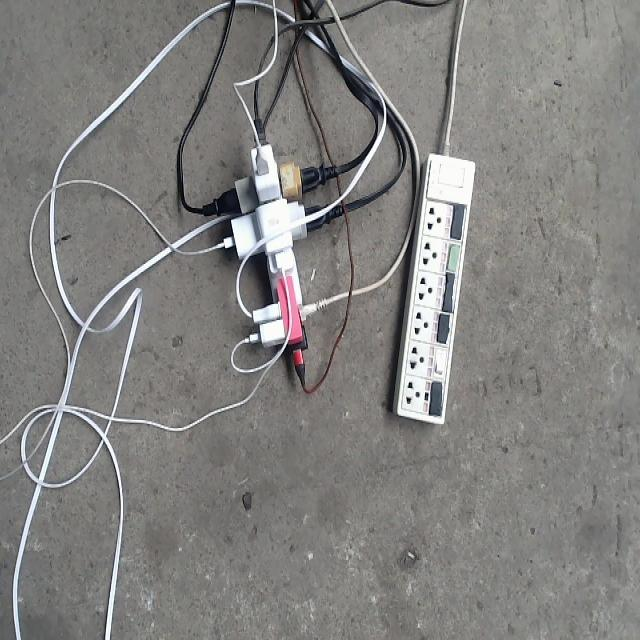-: (168, 95, 368, 445)
